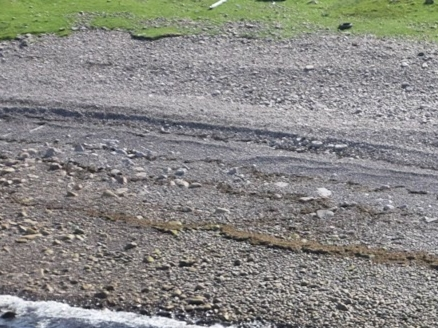white_in_green: (319, 1, 373, 45), (299, 170, 353, 214)
